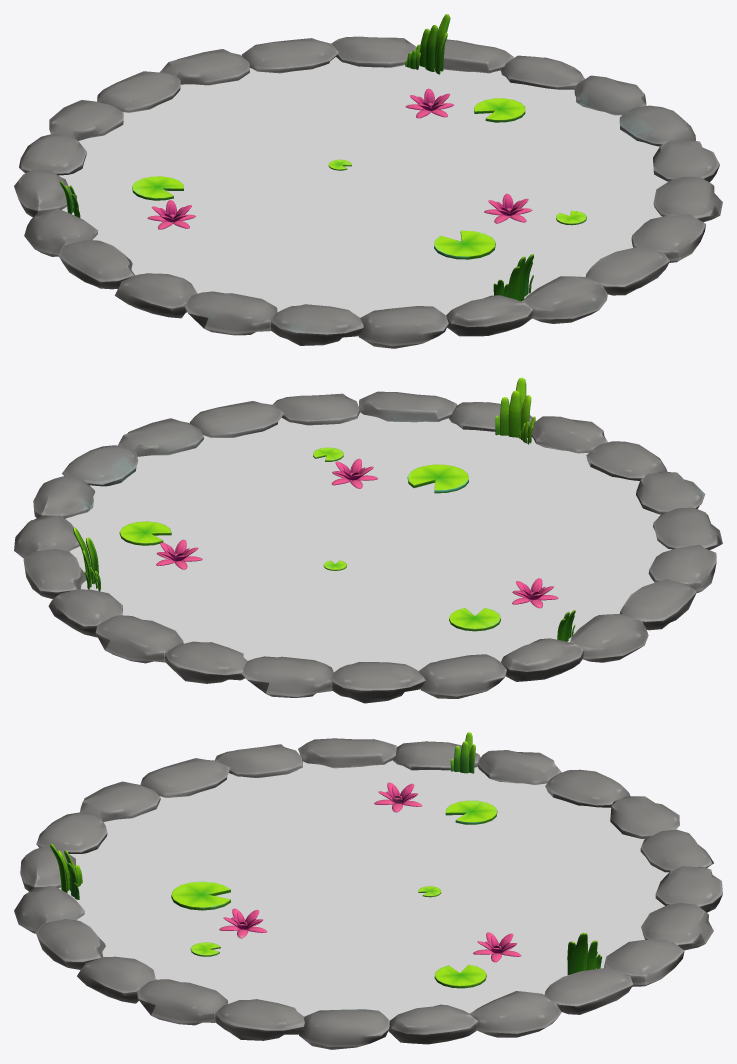
Rendered from pond-havuzcuk.fbx.
3 views of the same model, one above another, from view 1: azimuth 30°, elevation 25°; view 2: azimuth 150°, elevation 25°; view 3: azimuth 270°, elevation 25° (orthographic).
Visible parts, largest first — view 1: pond-su, Pond; view 2: pond-su, Pond; view 3: pond-su, Pond.
Boxes of the visible parts, left/top/right/bottom form: pond-su: left=59, top=57, right=668, bottom=317; Pond: left=14, top=14, right=722, bottom=348; pond-su: left=65, top=412, right=672, bottom=671; Pond: left=14, top=377, right=722, bottom=703; pond-su: left=59, top=760, right=668, bottom=1020; Pond: left=14, top=732, right=722, bottom=1049.
Size of the model in its own units: 4385 by 454 by 4407.
1 material, 1 textured.
